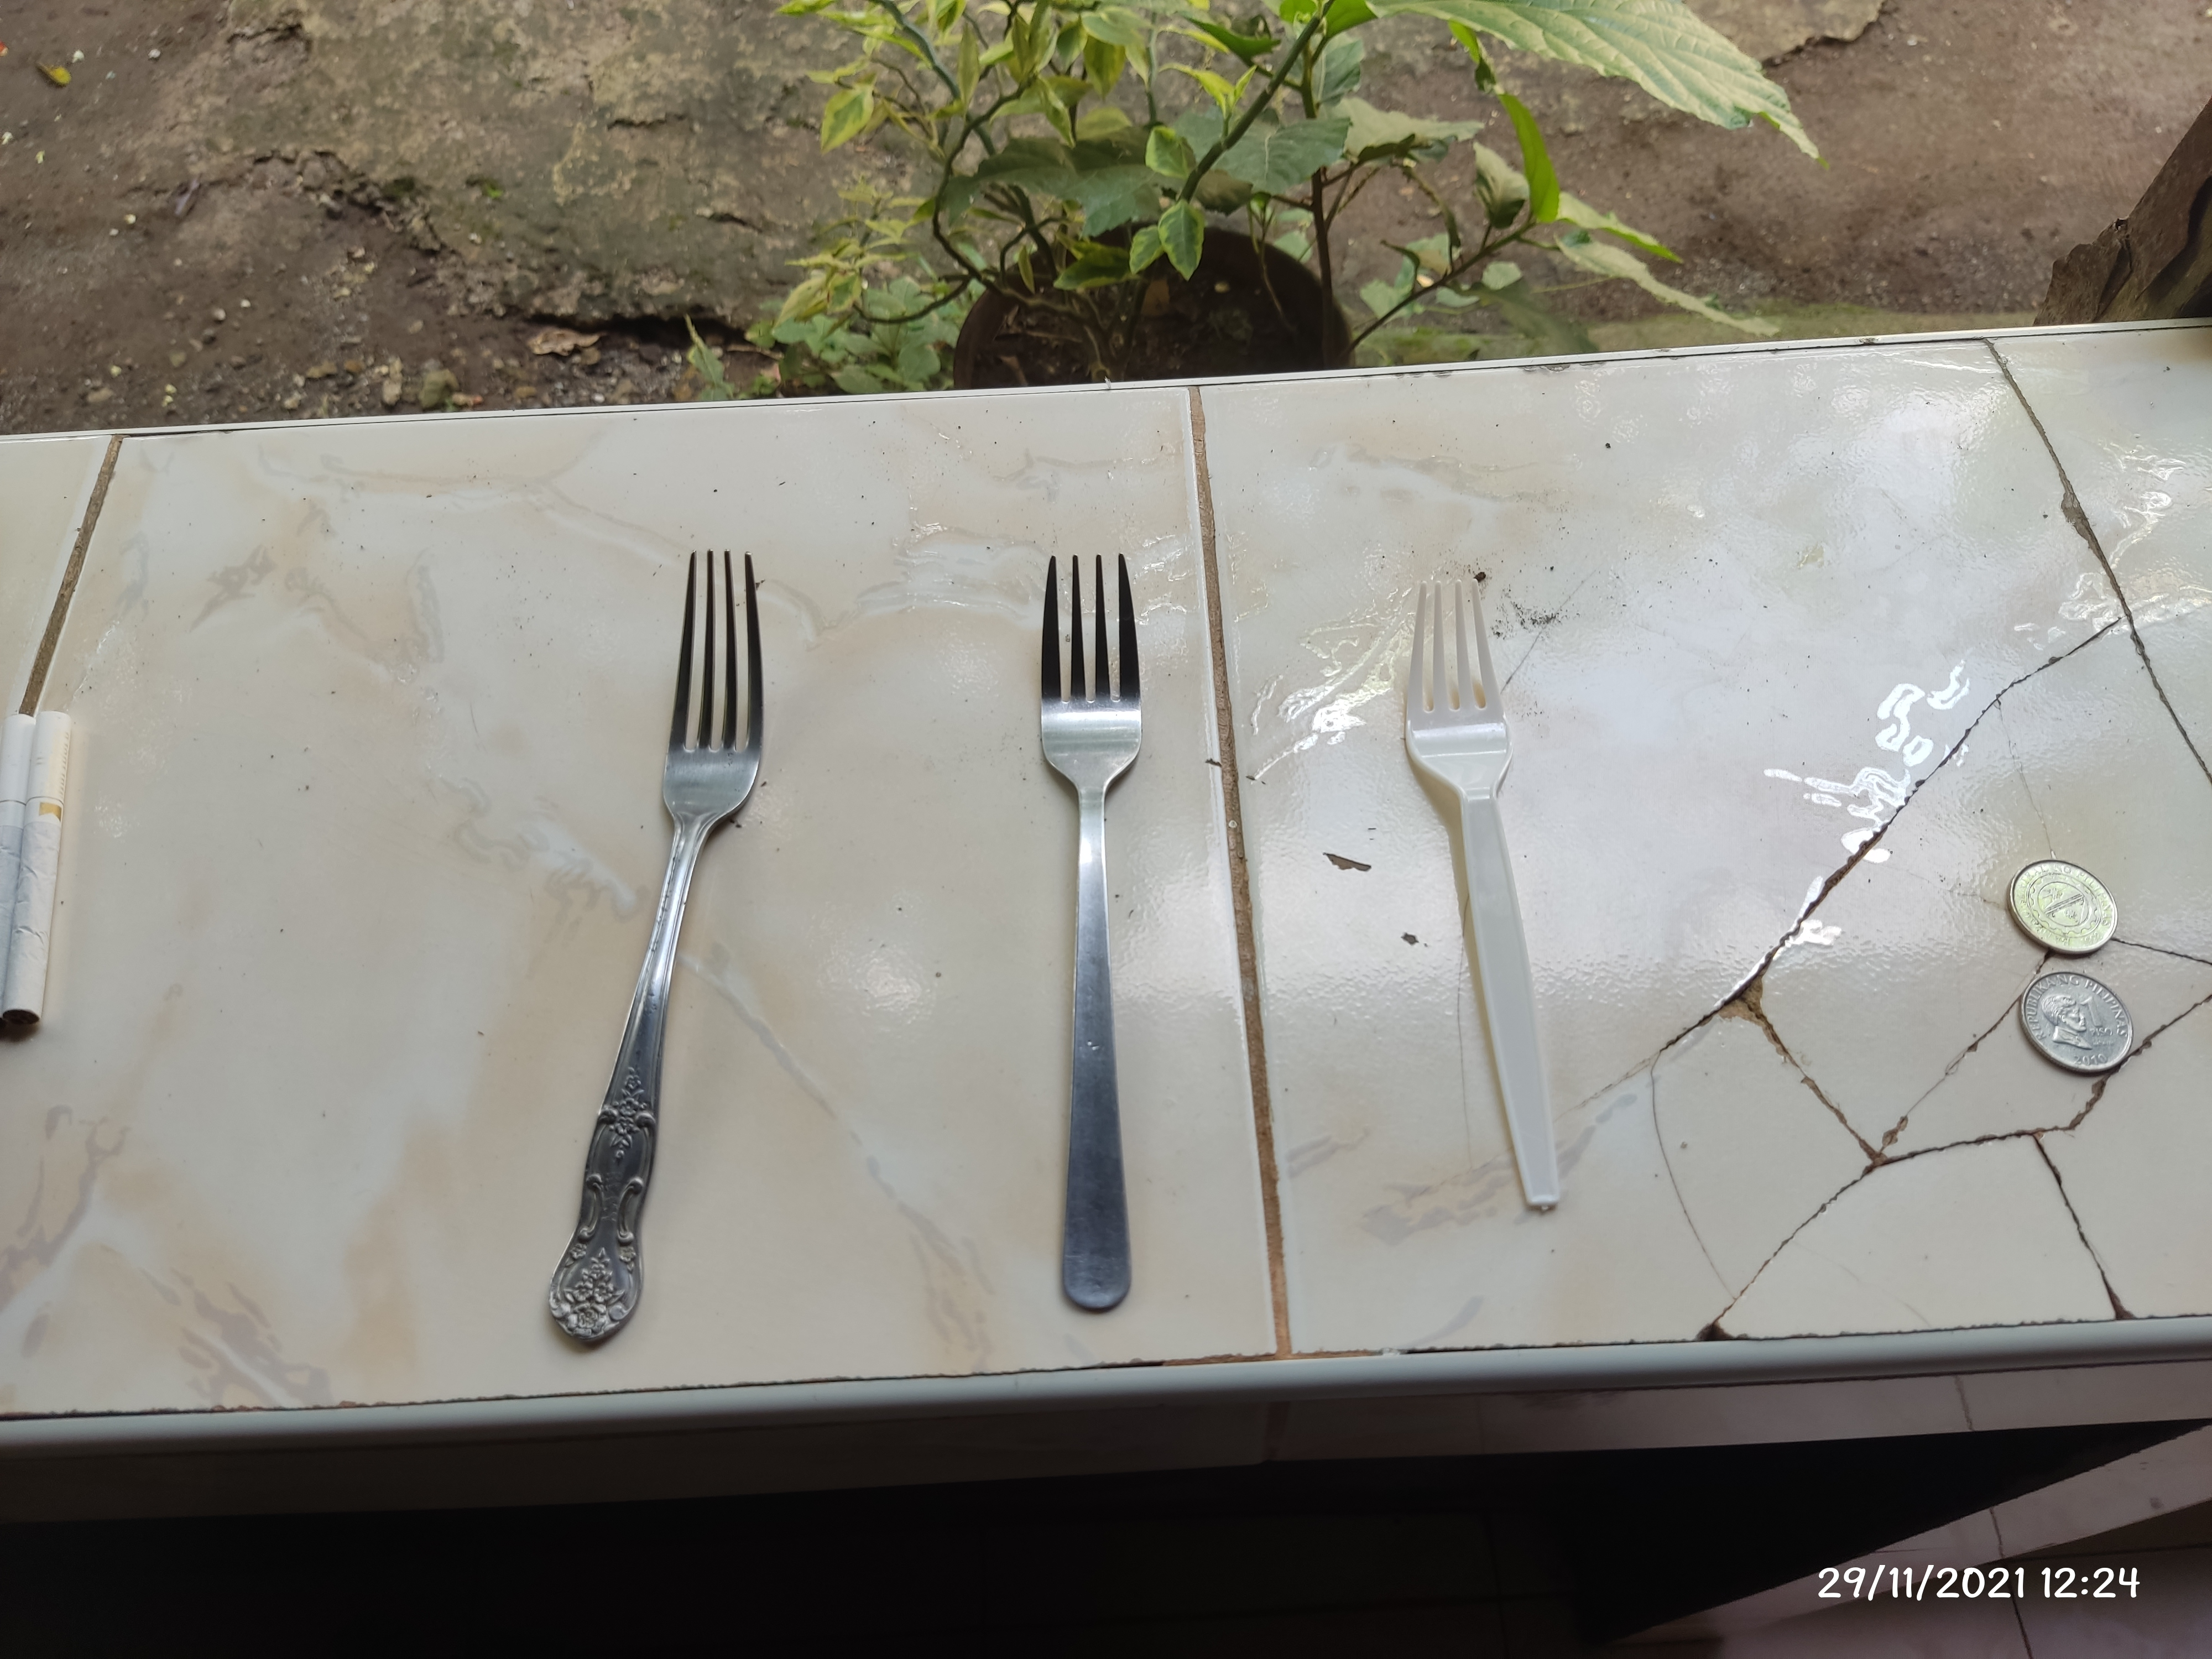fork: (554, 544, 772, 1351), (1406, 586, 1573, 1211), (1031, 551, 1150, 1312)
